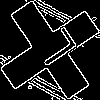L: (25, 25, 79, 75)
